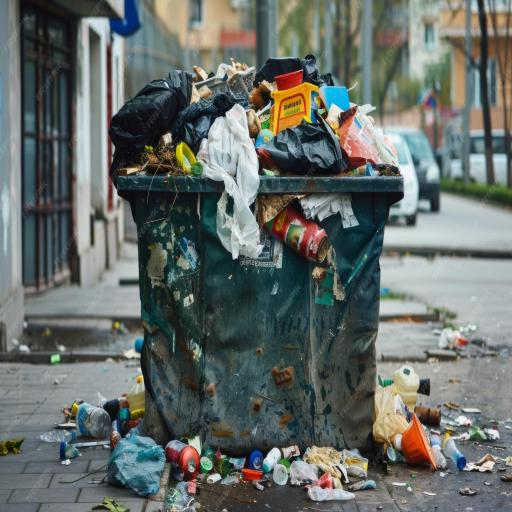Basura_fuera: (0, 332, 431, 460)
Contenedor_Desbordado: (109, 55, 403, 483)
